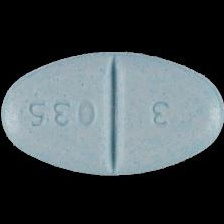0093-8035: (0, 0, 224, 224)
